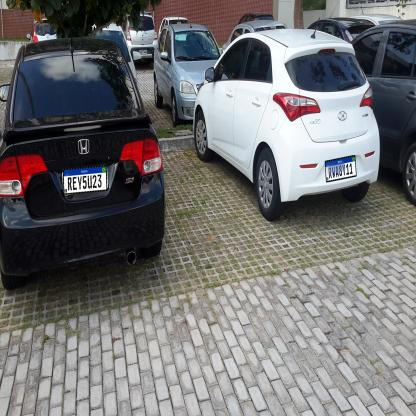PlacaM: (63, 165, 107, 195), (324, 155, 356, 182)
